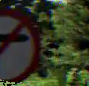Don't turn right: (2, 4, 44, 82)
